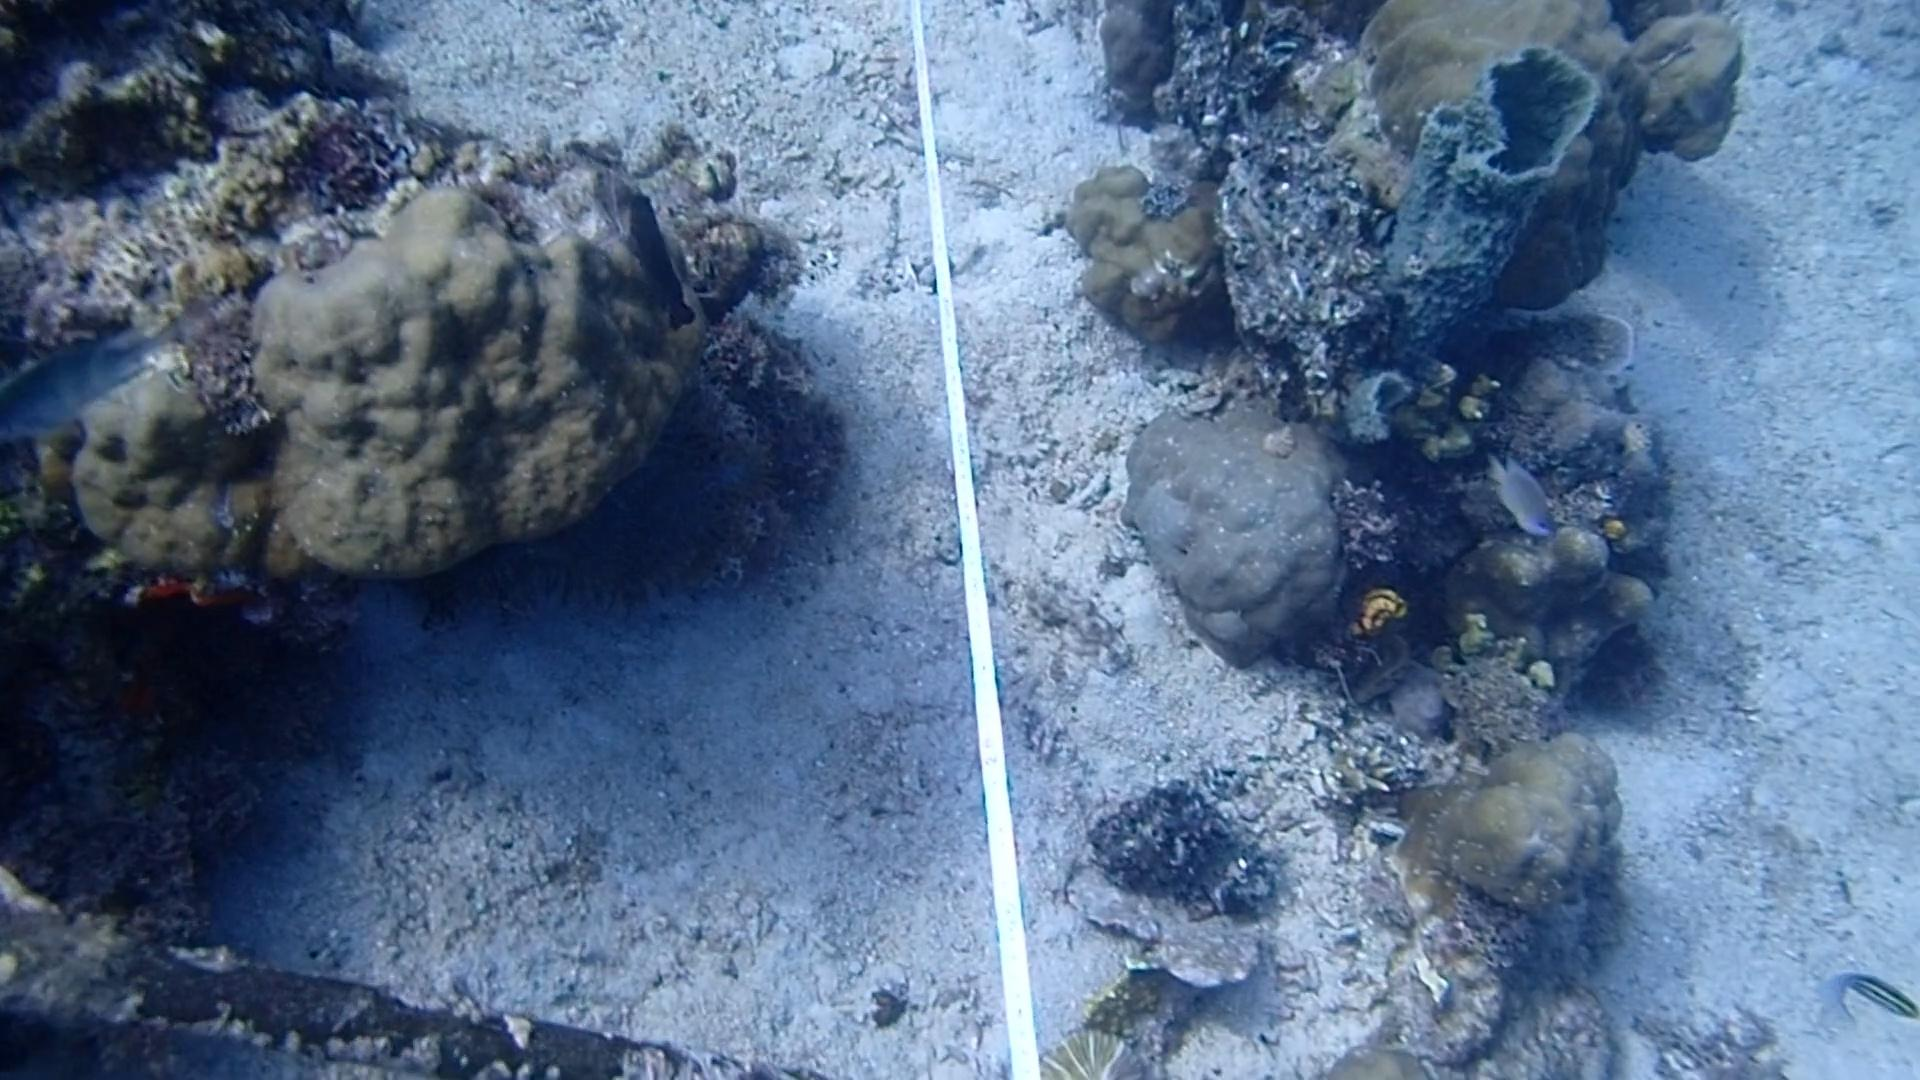Blue Fish: (0, 302, 162, 472)
Blue Nose Fish: (1477, 443, 1559, 542)
Dark Fish: (613, 179, 704, 334)
Striped Fish: (1818, 956, 1920, 1039)
